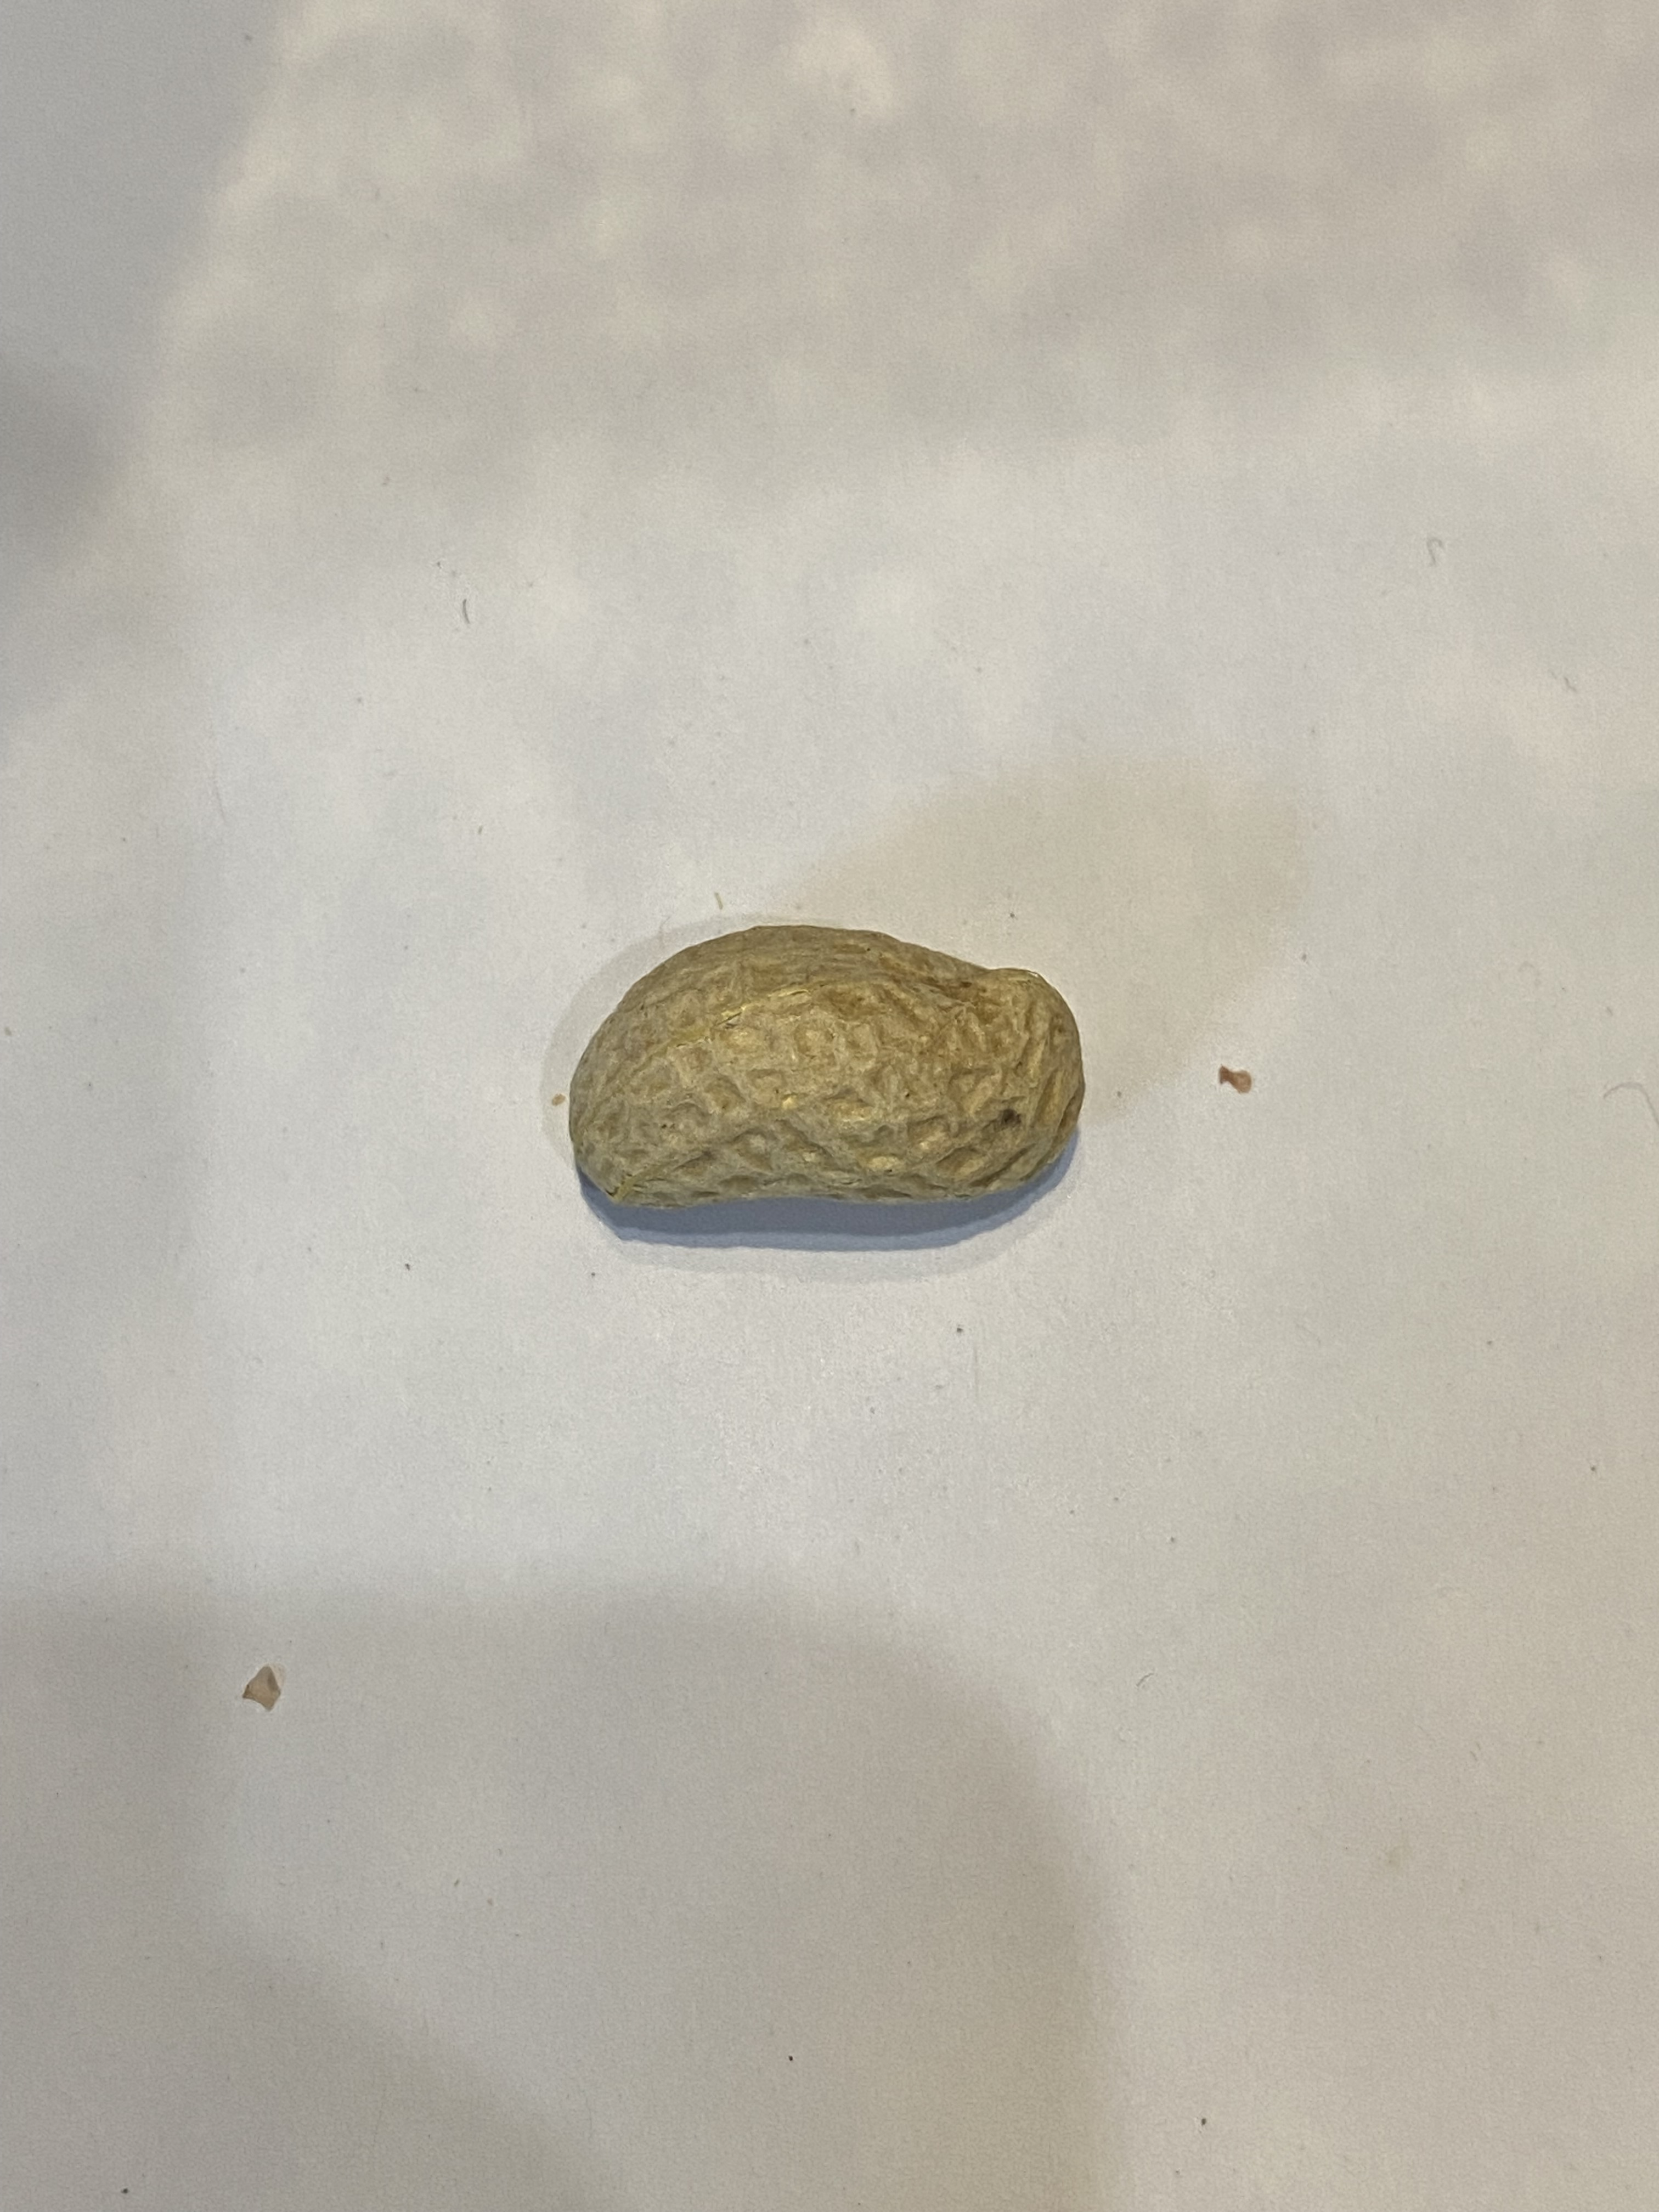kacang1: (519, 904, 1133, 1244)
